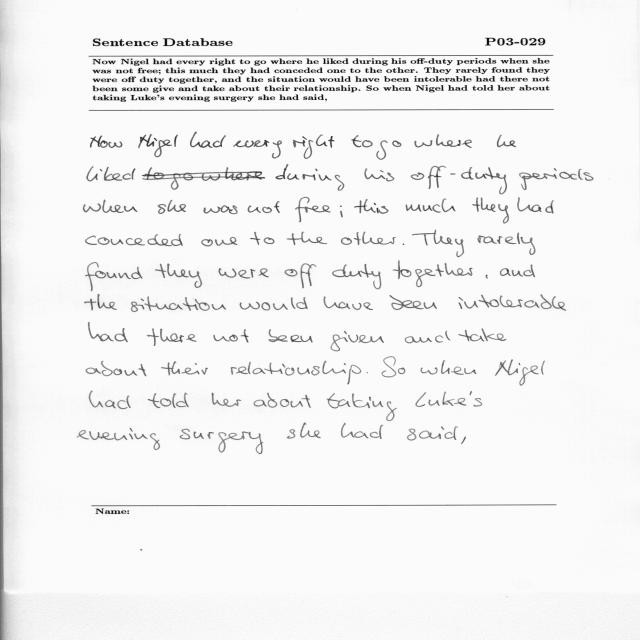word: (87, 166, 265, 190), (231, 361, 361, 385), (411, 166, 507, 194), (393, 261, 473, 287), (180, 429, 263, 454), (327, 393, 397, 421), (276, 164, 345, 191), (459, 294, 566, 311), (78, 428, 160, 450), (86, 262, 143, 291), (519, 168, 594, 190), (131, 296, 226, 312), (412, 230, 464, 257), (495, 359, 545, 386), (478, 233, 536, 255), (332, 264, 381, 289), (85, 234, 183, 246), (155, 263, 202, 288), (416, 391, 483, 407), (293, 134, 335, 159), (472, 198, 509, 224), (253, 392, 311, 408), (138, 134, 178, 157), (295, 197, 331, 222), (147, 328, 197, 346), (87, 361, 147, 376), (240, 297, 308, 310), (233, 140, 282, 158), (421, 360, 477, 375), (414, 134, 472, 148), (285, 263, 317, 288), (89, 323, 128, 343), (407, 426, 458, 441), (89, 391, 131, 409), (341, 232, 396, 245), (390, 295, 437, 310), (161, 361, 208, 376), (84, 200, 138, 213), (406, 199, 456, 213), (324, 296, 373, 310), (459, 328, 507, 342), (341, 423, 383, 439), (268, 329, 313, 343), (517, 197, 554, 214), (148, 393, 189, 408), (190, 132, 226, 148), (218, 268, 269, 279), (287, 423, 321, 439), (405, 331, 450, 343), (287, 232, 328, 245), (376, 140, 402, 160), (85, 295, 117, 311), (354, 199, 388, 214), (213, 329, 249, 343), (382, 357, 406, 378), (500, 264, 535, 277), (212, 393, 241, 407), (247, 201, 280, 213), (158, 200, 186, 214), (365, 169, 395, 182), (91, 136, 123, 148), (330, 331, 348, 351), (201, 237, 238, 246), (203, 205, 238, 214), (250, 232, 274, 245), (348, 335, 384, 343), (352, 135, 373, 147), (497, 135, 516, 147), (461, 436, 466, 444), (340, 206, 343, 217), (486, 275, 488, 279), (403, 244, 404, 245), (367, 372, 368, 373)
